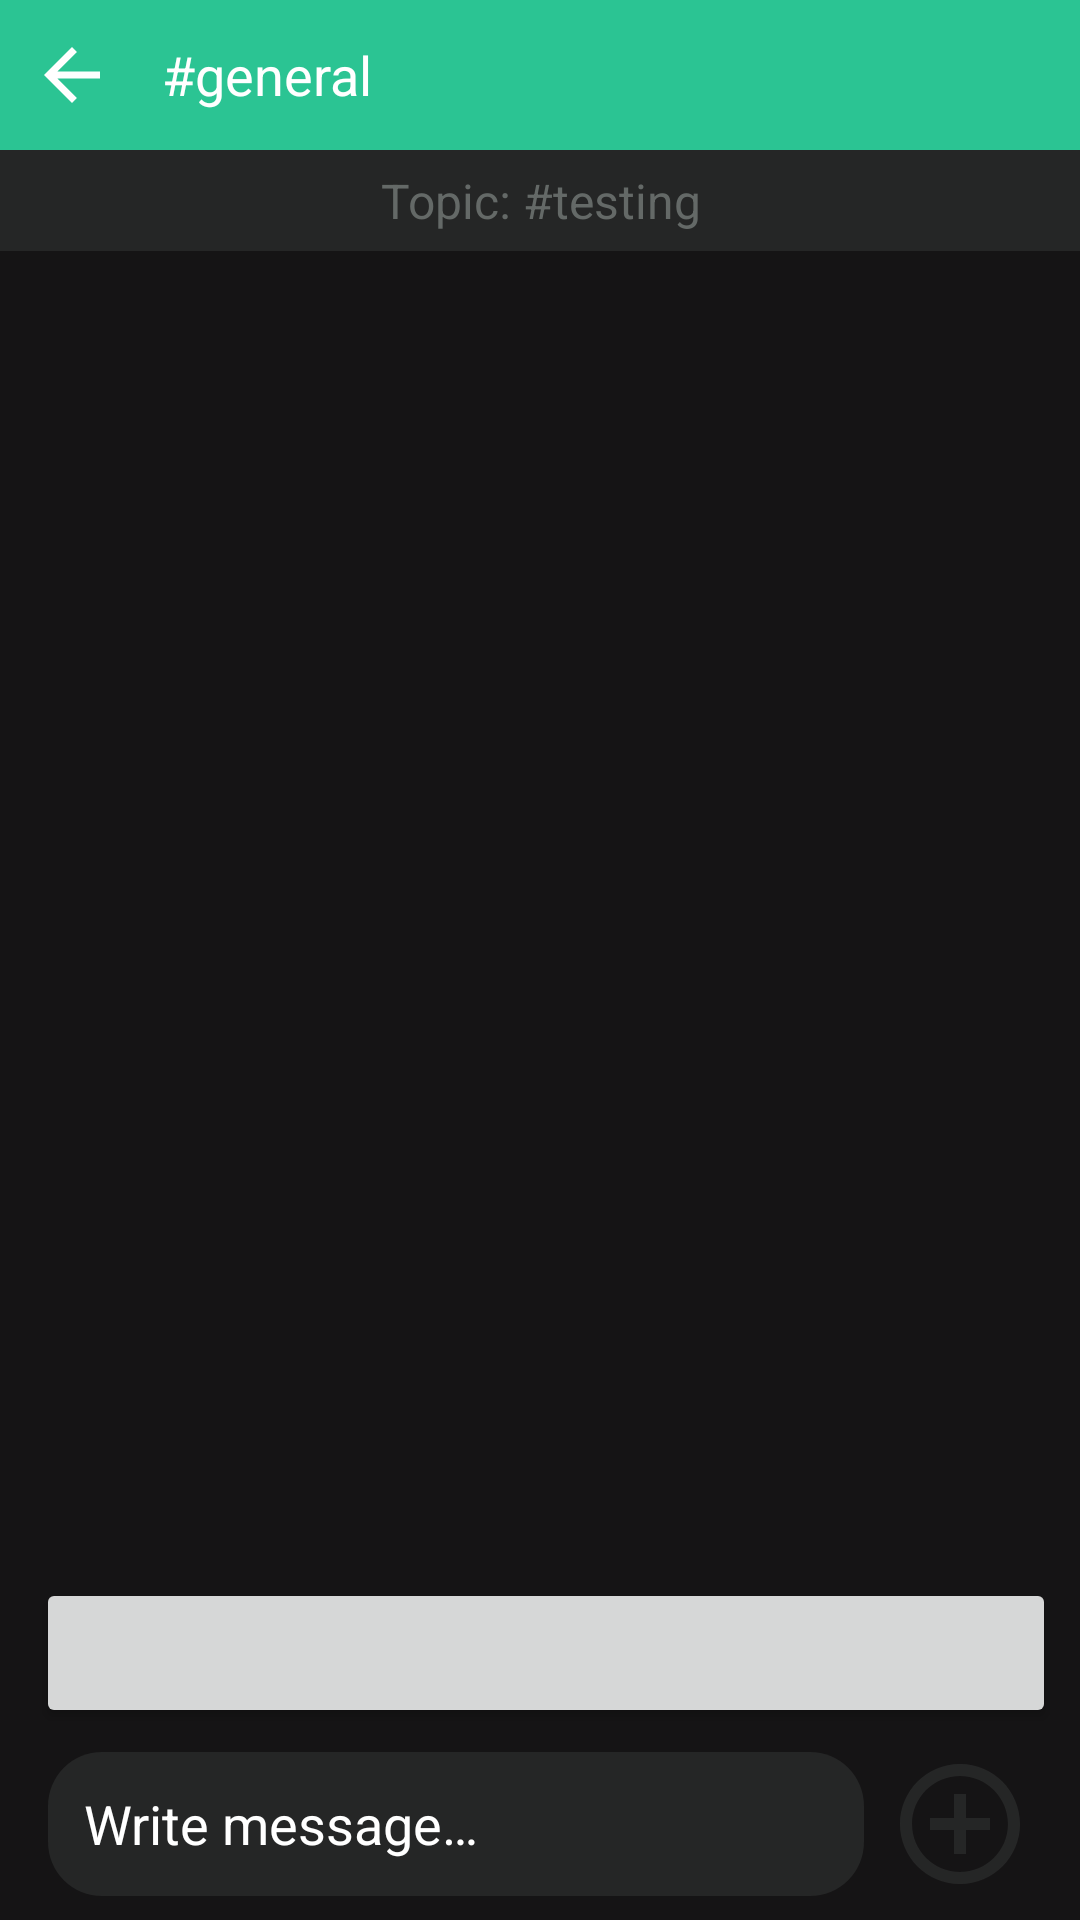

Screen size 1080×1920. Icon name, then its center in pixels as point (x, y):
Back button: point (72, 75)
